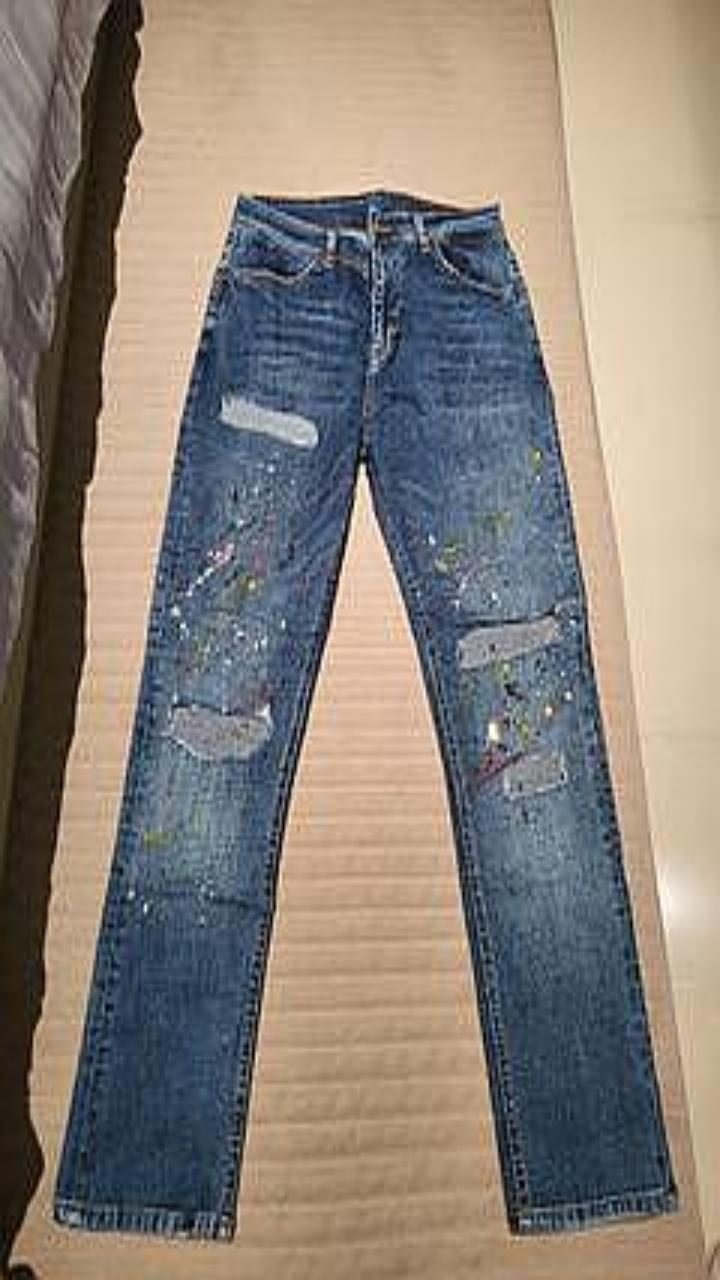Jeans: (53, 189, 677, 1238)
